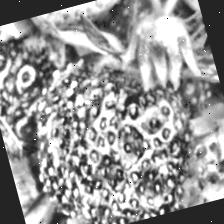Anthracnose Fruit Rot: (27, 42, 187, 224), (159, 129, 224, 210)
